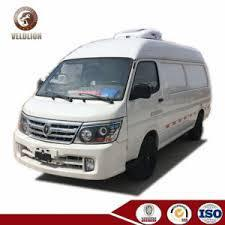Van: (15, 29, 214, 183)
